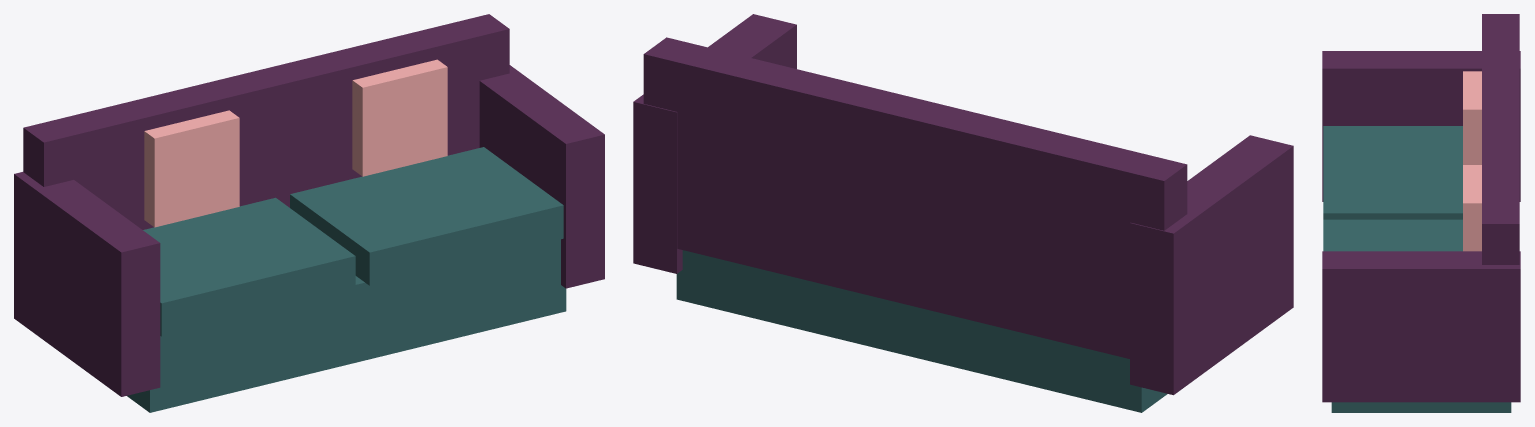
The model's file is couch-medium.obj.
The picture shows the model from 3 angles, left to right: view 1: azimuth 30°, elevation 25°; view 2: azimuth 150°, elevation 25°; view 3: azimuth 270°, elevation 25°; orthographic projection. The views are drawn at different scales.
Parts seen in each view (by area): view 1: cozy-back, soft-sofa-base, left-rounded-arm, seat-cushion-2, seat-cushion-1, right-rounded-arm, pillow-1, pillow-2; view 2: cozy-back, left-rounded-arm, soft-sofa-base, right-rounded-arm; view 3: right-rounded-arm, seat-cushion-1, left-rounded-arm, cozy-back, seat-cushion-2, soft-sofa-base, pillow-1, pillow-2.
Part boxes in pixels (x1,y1,x2,y2): cozy-back: (23,14,509,229); soft-sofa-base: (127,239,566,412); left-rounded-arm: (14,172,160,396); seat-cushion-2: (290,147,563,285); seat-cushion-1: (143,197,355,336); right-rounded-arm: (479,65,604,288); pillow-1: (144,110,239,227); pillow-2: (352,59,447,176); cozy-back: (643,37,1187,358); left-rounded-arm: (1130,135,1293,395); soft-sofa-base: (676,250,1167,412); right-rounded-arm: (633,14,796,273); right-rounded-arm: (1322,251,1520,402); seat-cushion-1: (1323,126,1462,219); left-rounded-arm: (1322,51,1520,201); cozy-back: (1482,14,1519,264); seat-cushion-2: (1323,219,1462,251); soft-sofa-base: (1331,402,1511,412); pillow-1: (1463,71,1481,164); pillow-2: (1463,165,1481,251).
Size of the model in its own units: 2.73 by 1.17 by 1.05.
